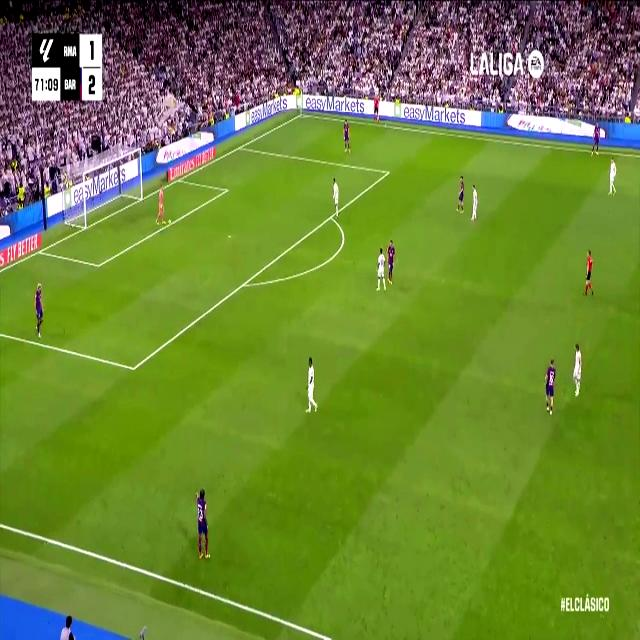bigarea_bottom_inner: (129, 356, 138, 378)
bigarea_top_inner: (385, 166, 390, 177)
bigarea_top_outter: (237, 141, 243, 152)
bottom_arc_area_intersection: (240, 275, 248, 293)
corner: (298, 110, 304, 118)
smallarea_bottom_inner: (94, 256, 102, 274)
smallarea_top_inner: (224, 185, 228, 195)
top_arc_area_intersection: (327, 208, 335, 224)
